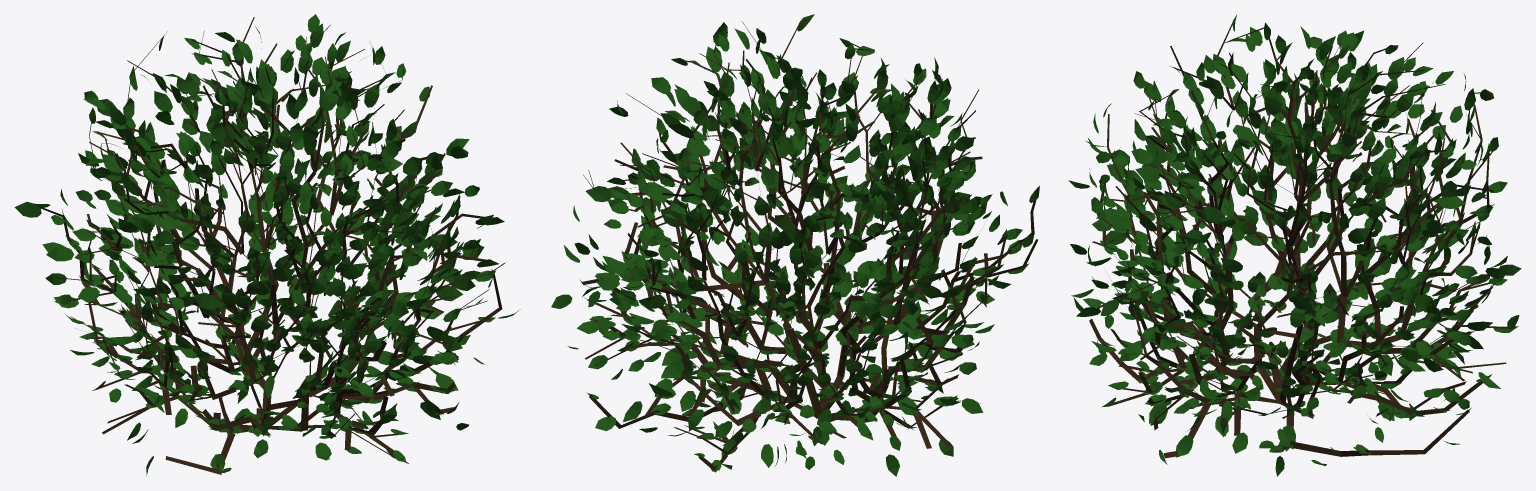
File: bush2.fbx
3 views of the same model, side by side, from view 1: azimuth 30°, elevation 25°; view 2: azimuth 150°, elevation 25°; view 3: azimuth 270°, elevation 25° (orthographic).
Parts seen in each view (by area): view 1: geo1; view 2: geo1; view 3: geo1.
Part boxes in pixels (<box>): geo1: <box>14,14,520,475</box>; geo1: <box>551,14,1039,476</box>; geo1: <box>1068,15,1521,476</box>.
Bounding box in the file's own units: 1.24 × 1.15 × 1.21.
